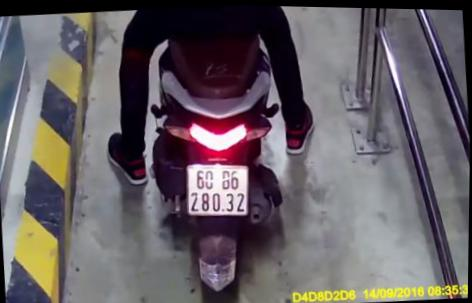LP: (183, 158, 252, 220)
